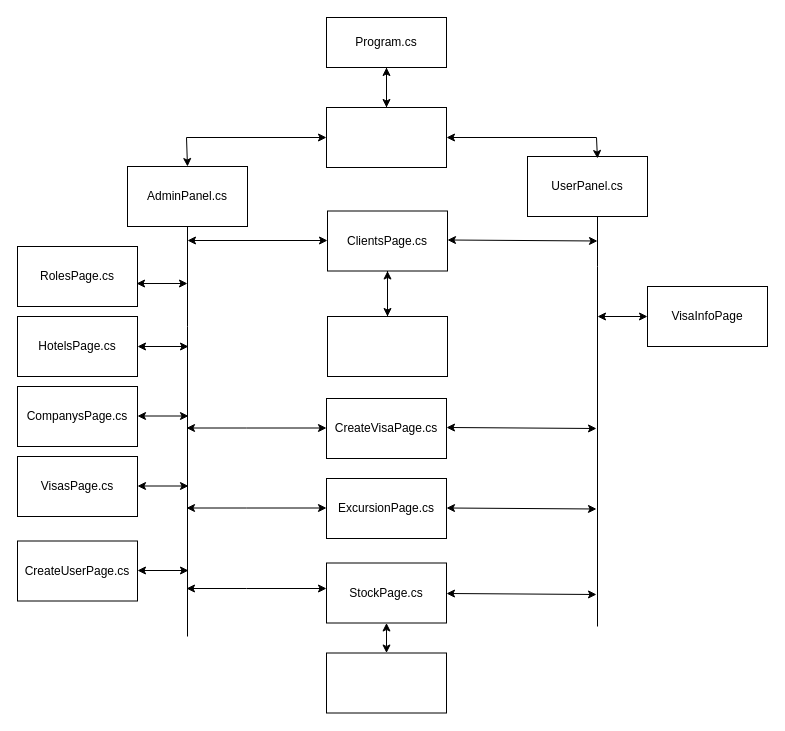
The diagram is 785 pixels wide and 731 high, and some of its shapes have lost their labels. Each missing label, with the centre of its shape:
"ListIncomeExpense.cs" goes at point (387, 346).
"Login.cs" goes at point (386, 137).
"StatementsPage.cs" goes at point (386, 682).
